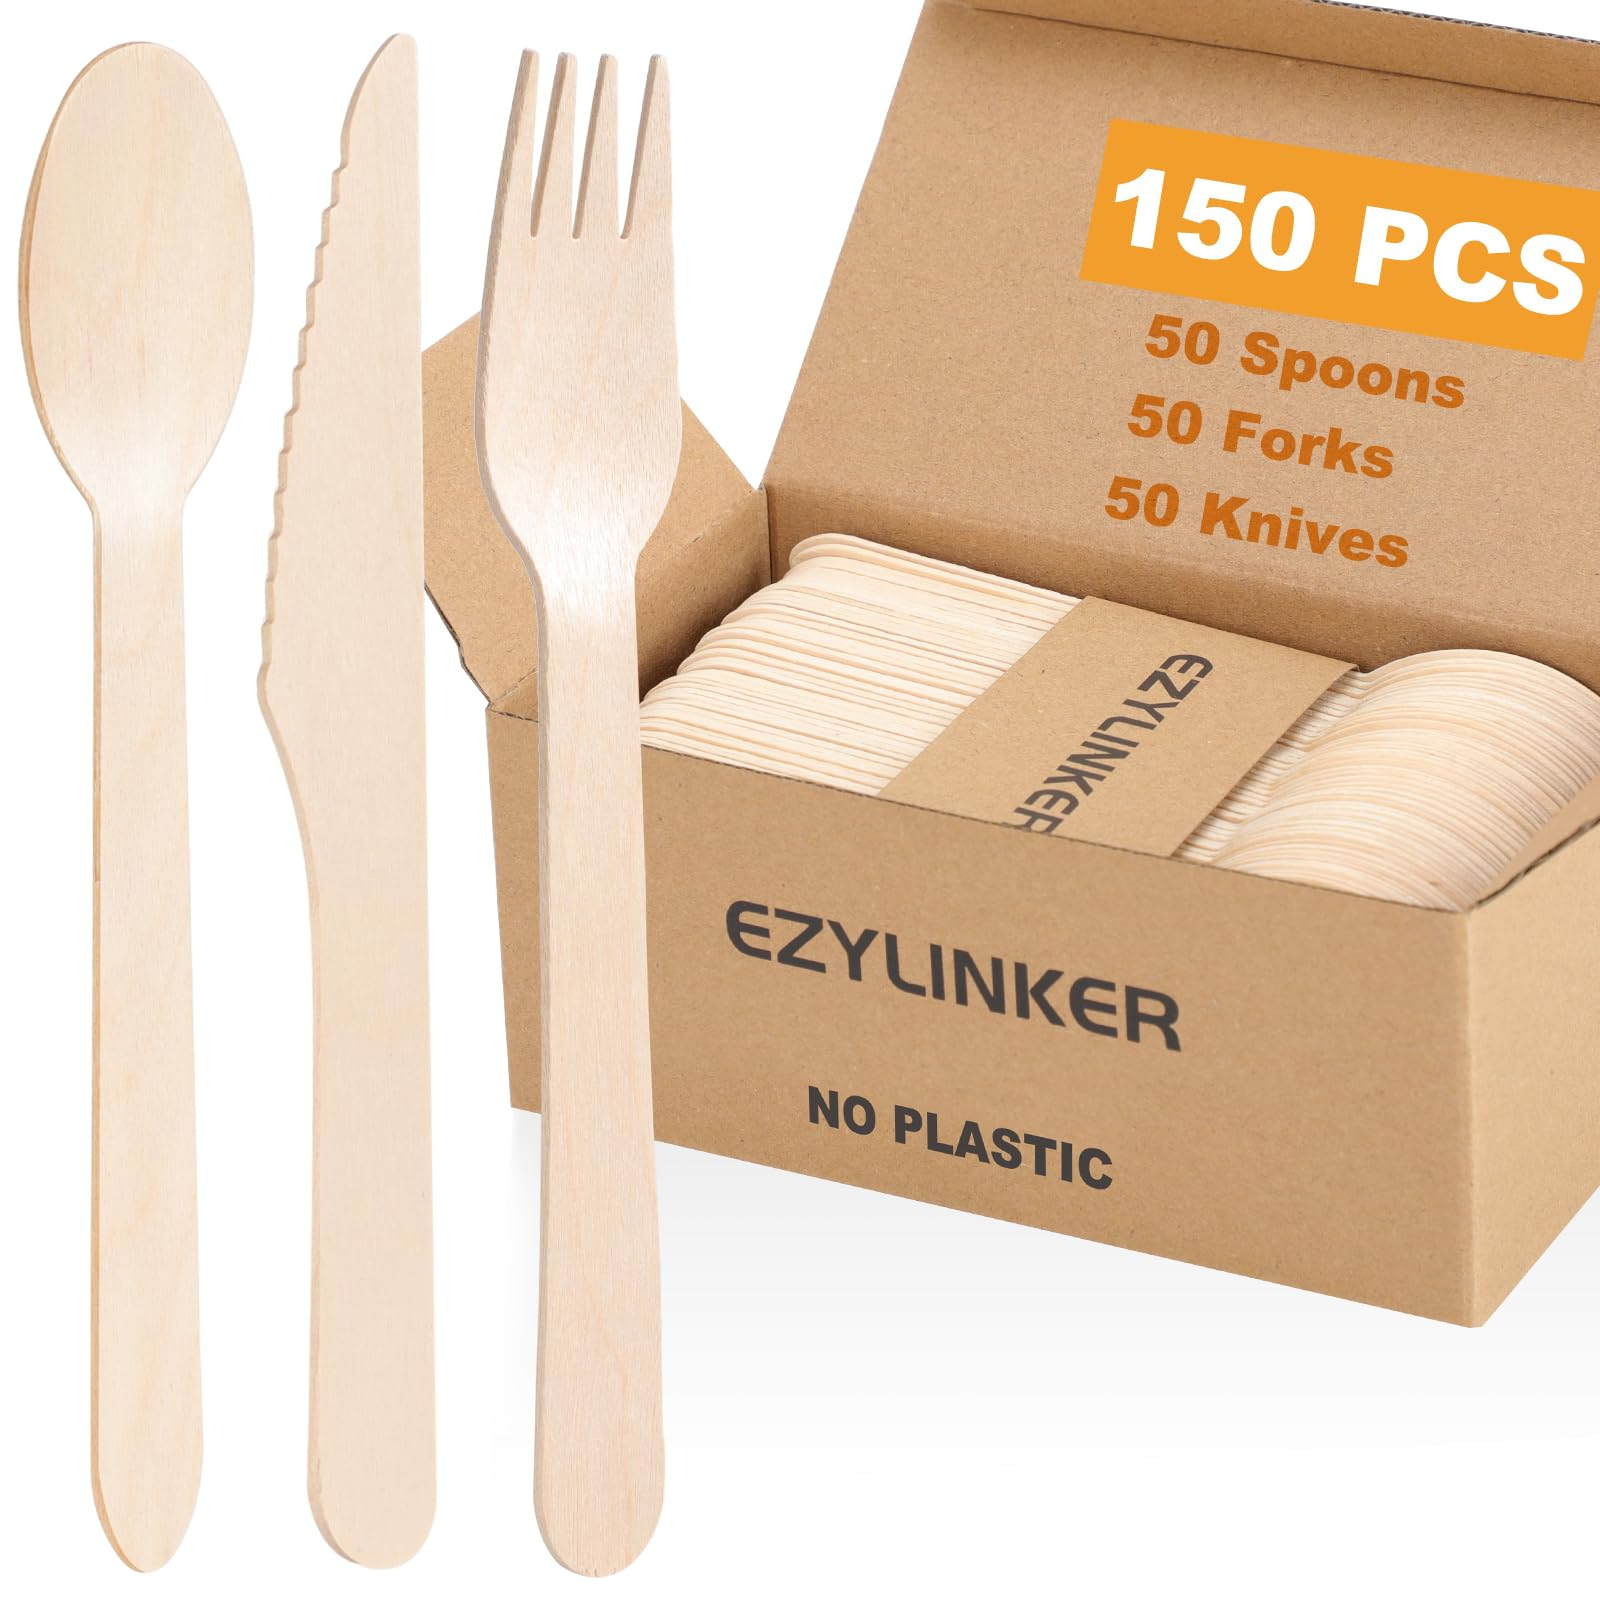Wooden Utensils: (1, 40, 300, 1600), (273, 26, 505, 1530), (486, 62, 681, 1522)
